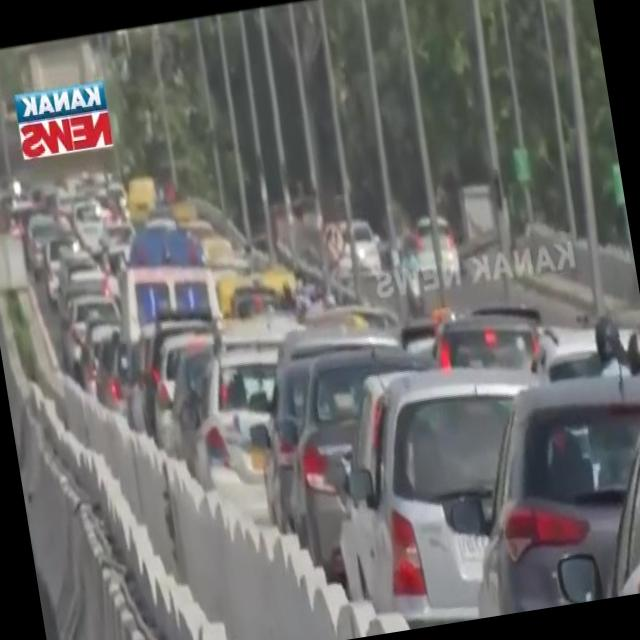ambulance: (117, 212, 222, 320)
